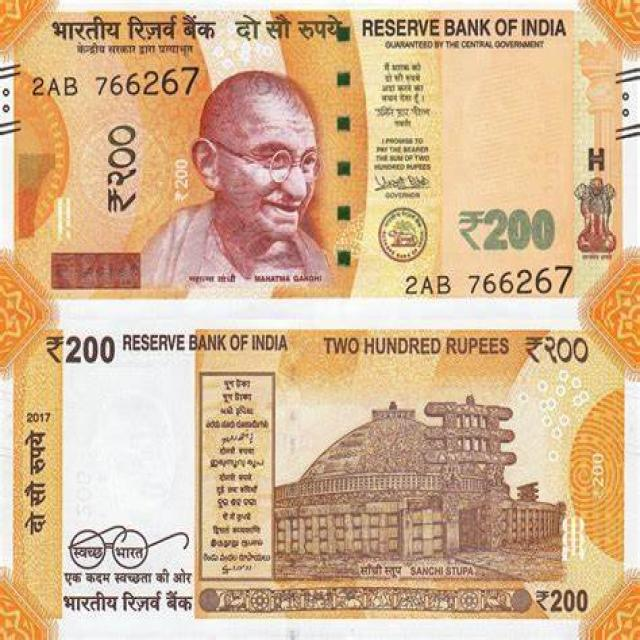200IndianRupees: (0, 312, 639, 640), (1, 0, 640, 315), (194, 315, 640, 640), (0, 312, 324, 640), (324, 312, 640, 640), (0, 0, 324, 313), (322, 1, 640, 312)
